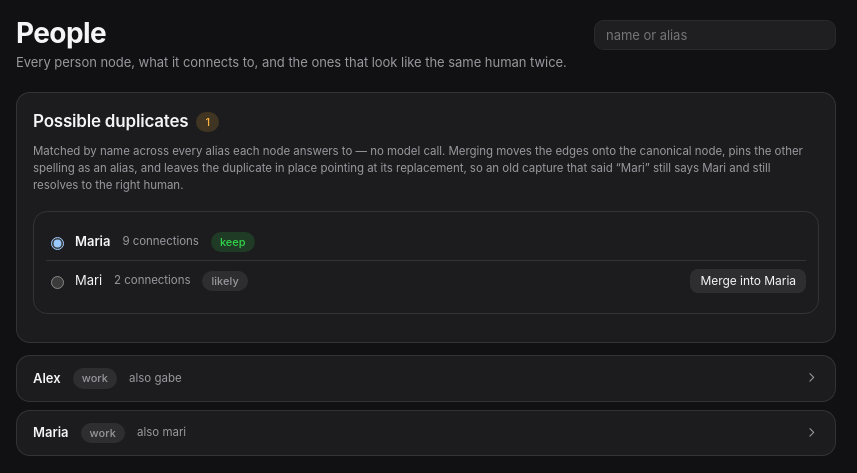
Test: People › searches aliases too, because that is the point of having them
Type "mari" into the search field named "filter people".
click(715, 35); type("mari")  # box [594,20,836,50]
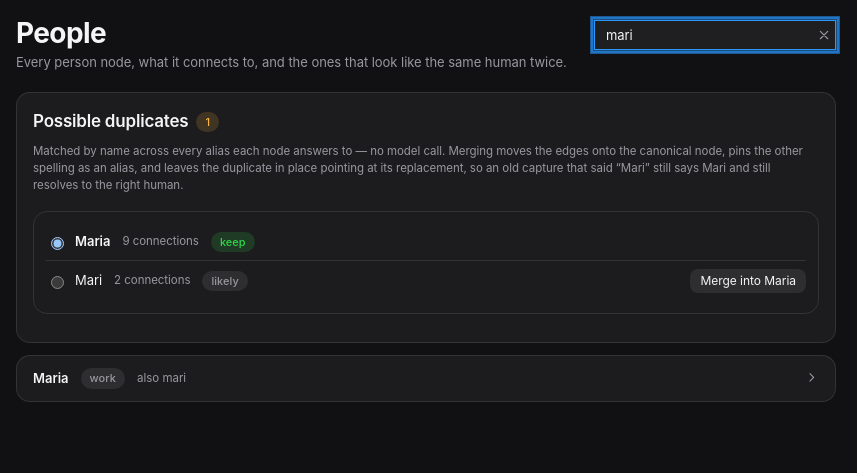
Expected: the 2nd text "Maria" is shown, [33,368,69,388]
Now the button "Alex" is gone
